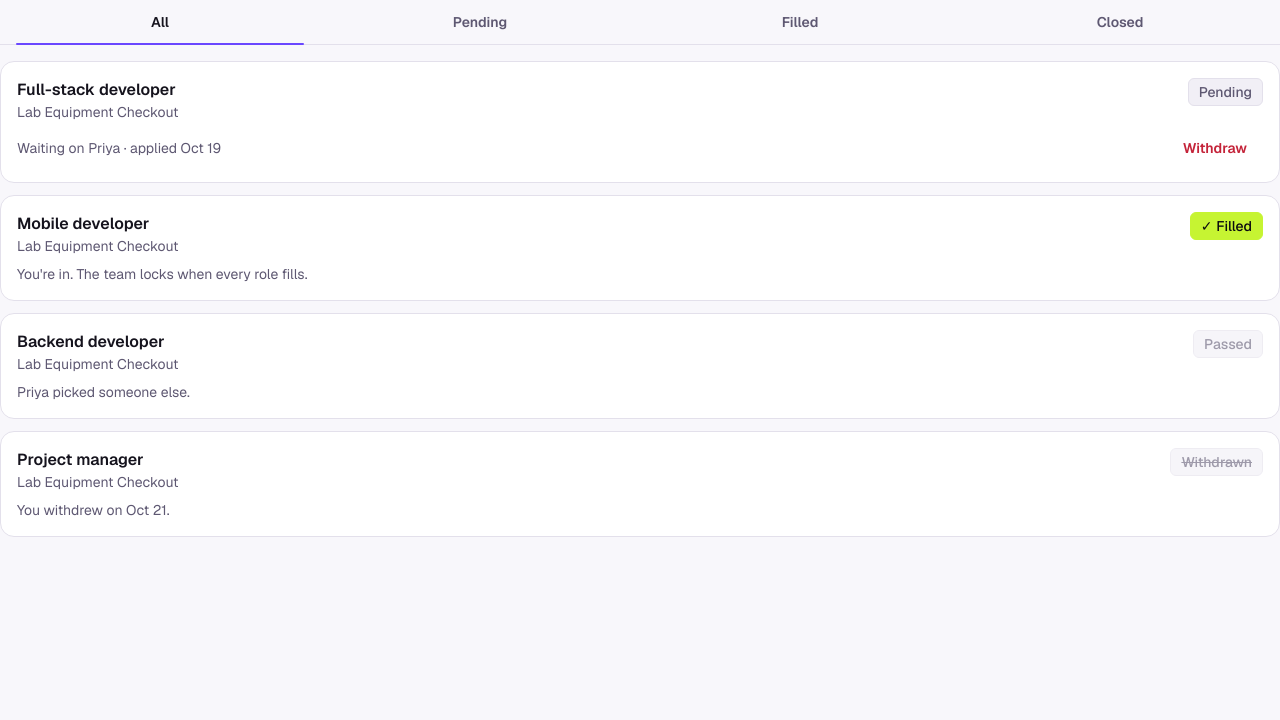
Test: withdraw asks first, and Keep my application changes nothing
Click the button with aria-label "Withdraw from Full-stack developer" at (1215, 148), box left=1167, top=130, right=1263, bottom=166
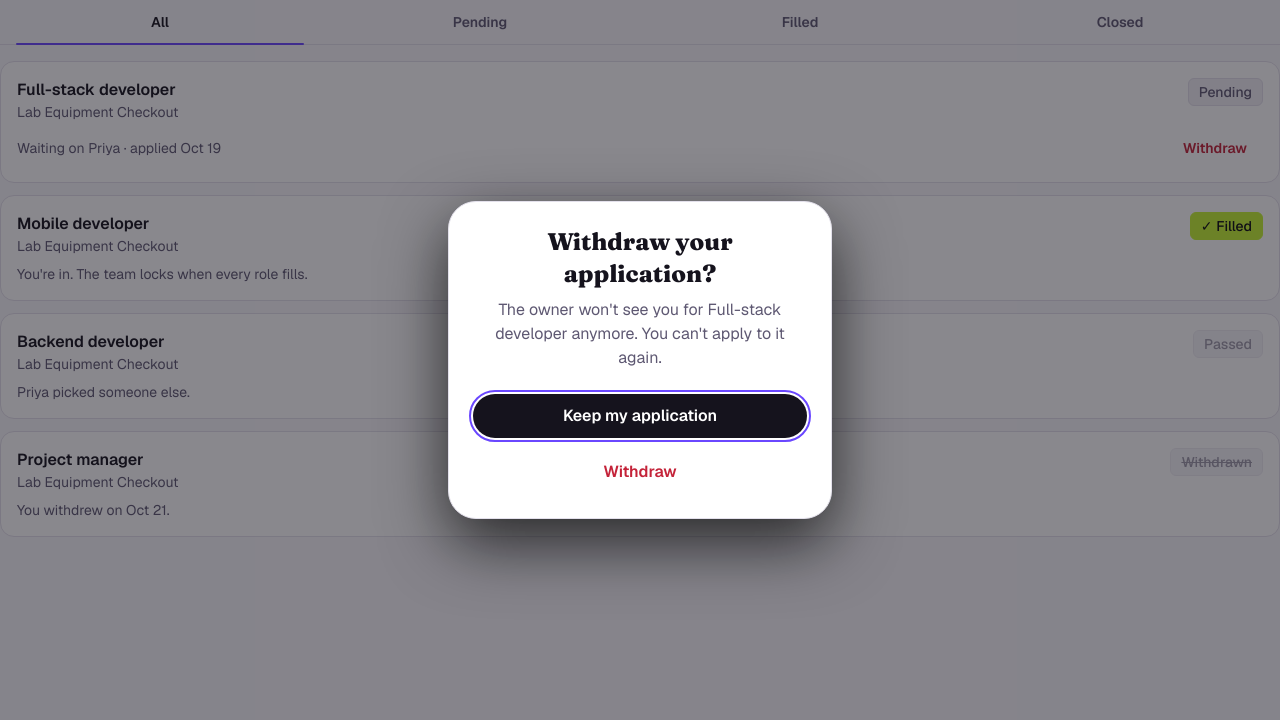
Check: the dialog "Withdraw your application?" shows "You can't apply to it again.", box left=495, top=299, right=785, bottom=368
Click the button "Keep my application" at (640, 416), box left=473, top=394, right=807, bottom=438
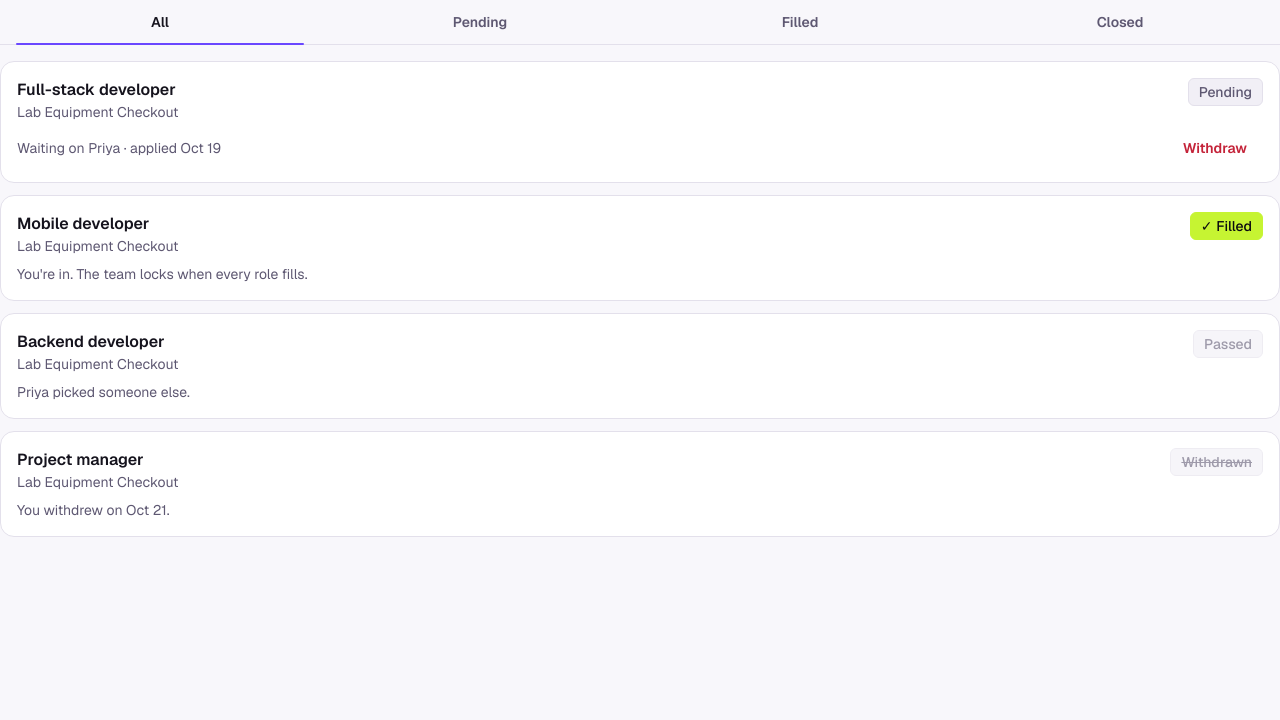
Check: the dialog is gone
